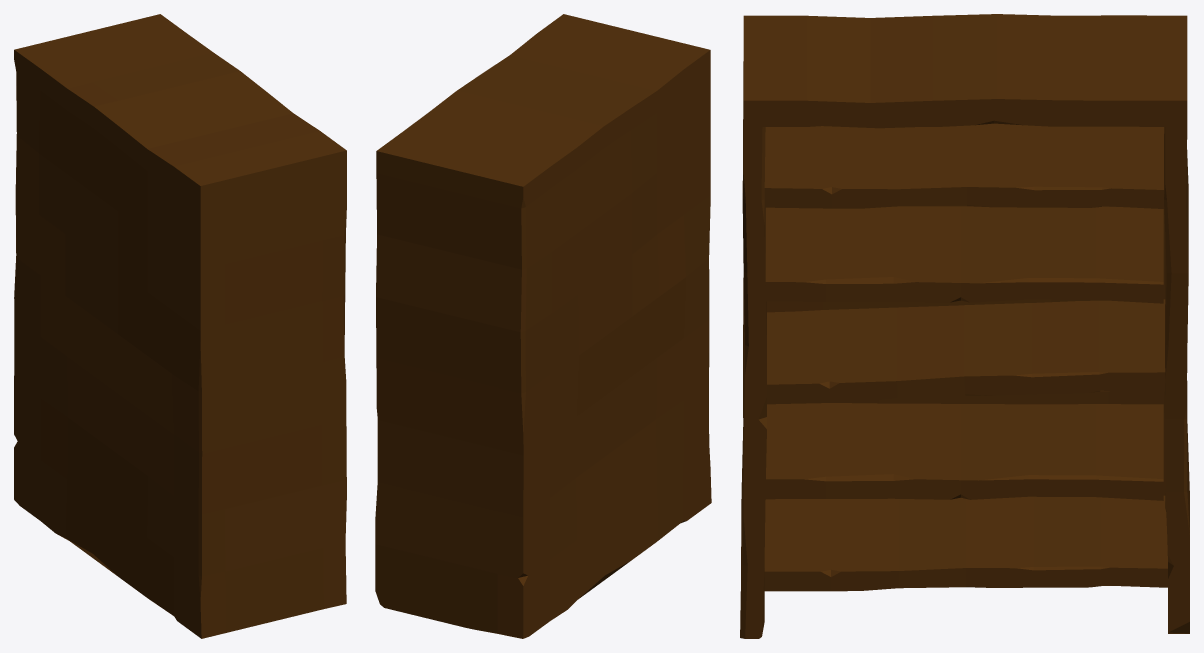
The model's file is BPW_BKabinet.fbx.
3 renders of one model, left to right at view 1: azimuth 30°, elevation 25°; view 2: azimuth 150°, elevation 25°; view 3: azimuth 270°, elevation 25°, orthographic. The views are drawn at different scales.
Visible parts, largest first — view 1: Cube.004; view 2: Cube.004; view 3: Cube.004, Cube.006, Cube.008, Cube.007, Cube.005, Cube.009.
Boxes of the visible parts, box(x1,y1,x2,y2) form: Cube.004: box(14, 14, 346, 638); Cube.004: box(375, 14, 711, 638); Cube.004: box(740, 14, 1189, 638); Cube.006: box(765, 403, 1163, 500); Cube.008: box(765, 206, 1163, 303); Cube.007: box(767, 299, 1165, 404); Cube.005: box(764, 495, 1167, 591); Cube.009: box(764, 123, 1164, 208).
Bounding box in the file's own units: 252 × 734 × 554.
